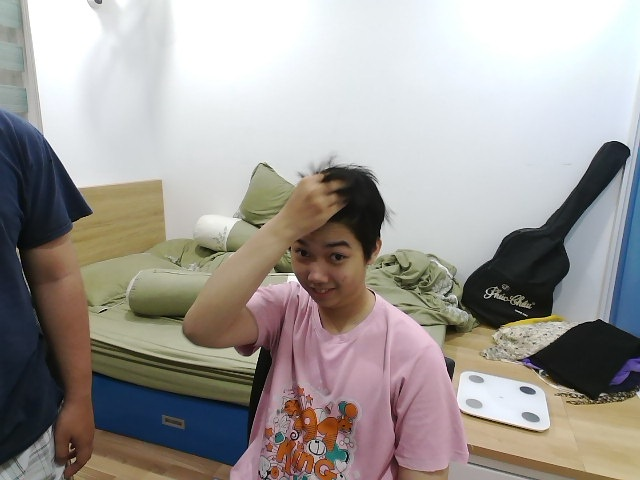face: (291, 171, 384, 307)
